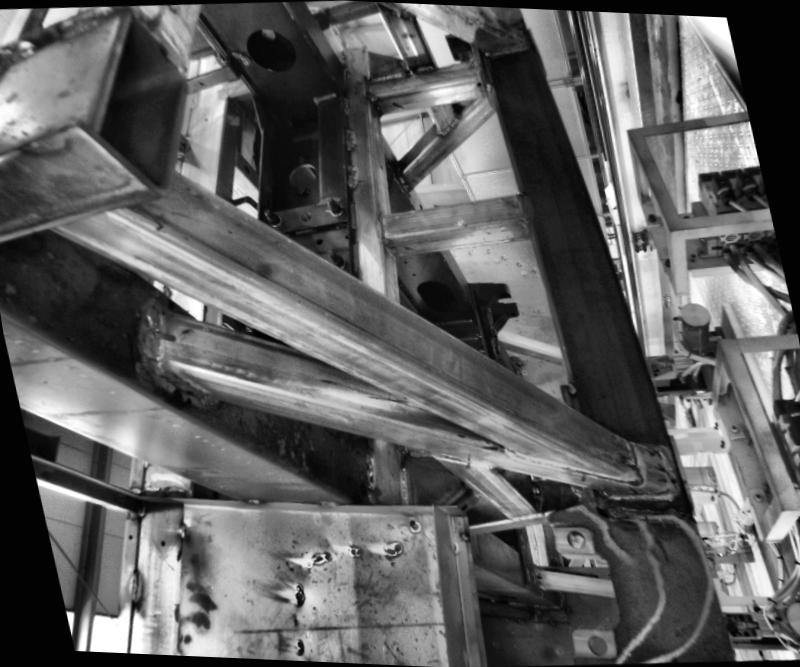bolt: (322, 246, 346, 266), (260, 206, 284, 224), (324, 194, 342, 215)
bracket: (464, 269, 527, 362)
hole: (236, 20, 302, 79), (284, 158, 320, 189), (582, 631, 609, 656), (562, 526, 588, 549), (155, 326, 173, 340), (295, 208, 313, 221), (650, 462, 666, 471), (312, 235, 322, 243), (156, 536, 164, 545), (473, 78, 482, 86), (124, 531, 131, 538), (410, 271, 418, 275), (401, 258, 407, 262)
welding: (136, 296, 178, 367), (594, 482, 680, 505), (654, 437, 679, 503), (125, 567, 146, 606), (372, 210, 387, 241), (514, 191, 532, 216), (173, 520, 189, 536), (314, 498, 338, 506), (240, 496, 264, 502)
